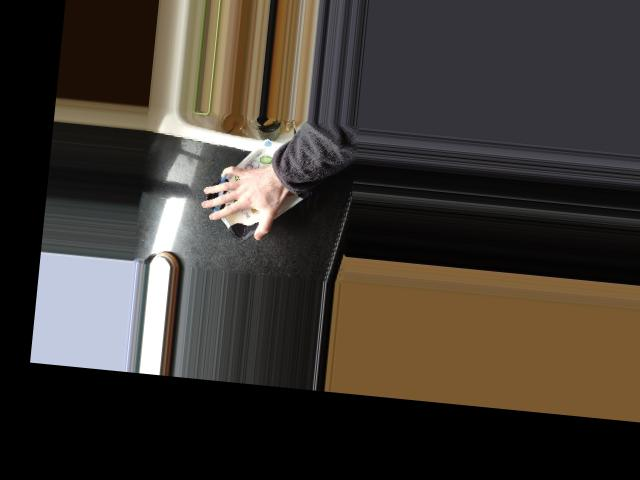cheese: (199, 129, 316, 247)
